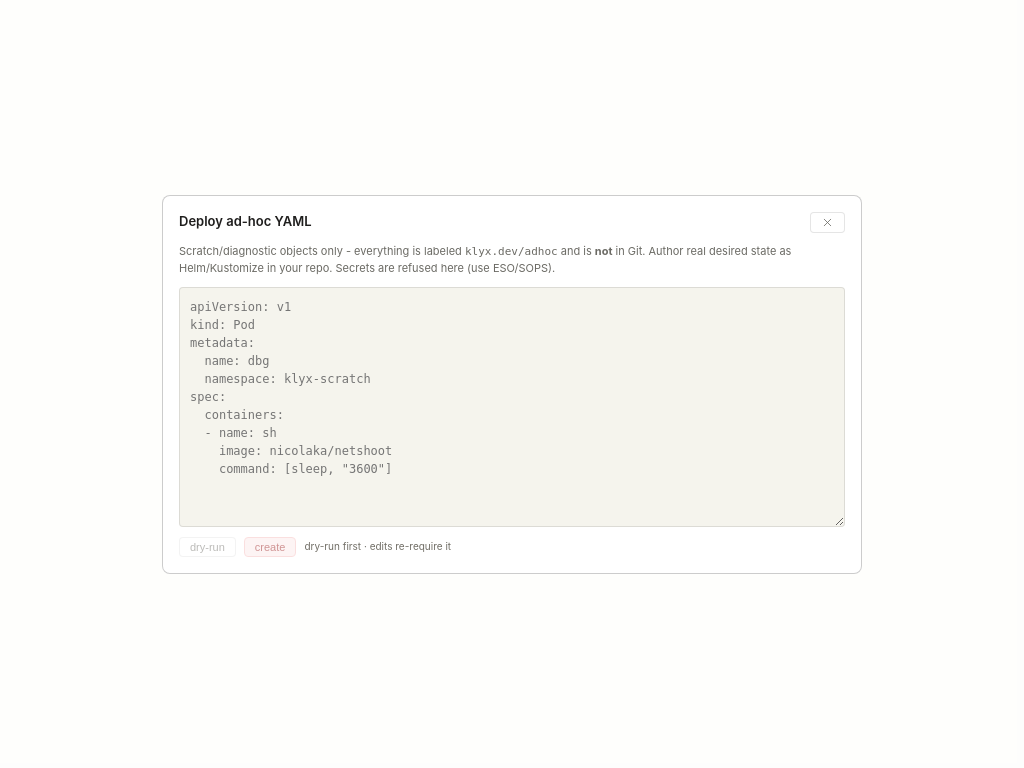
AdhocComposer › a failing doc keeps create locked and shows the per-doc error
Replace the text in the text box with placeholder "apiVersion" with "docs" at (512, 406), box [179, 286, 845, 526]
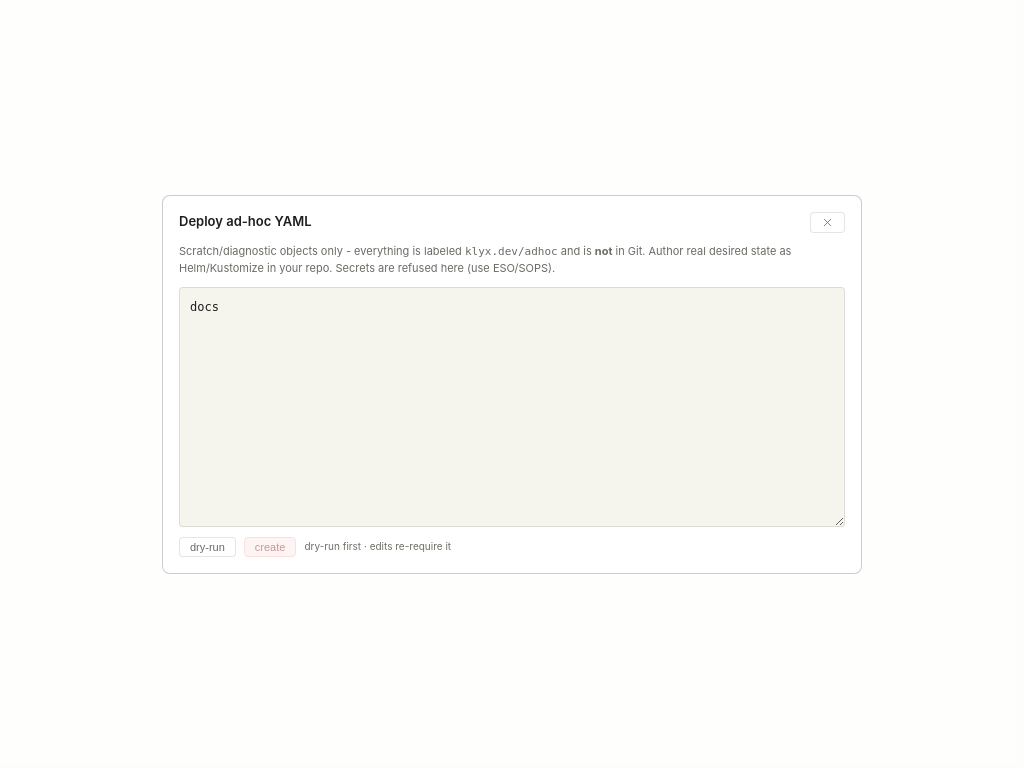
Click the button "dry-run".
click(207, 546)  # box [179, 536, 236, 556]
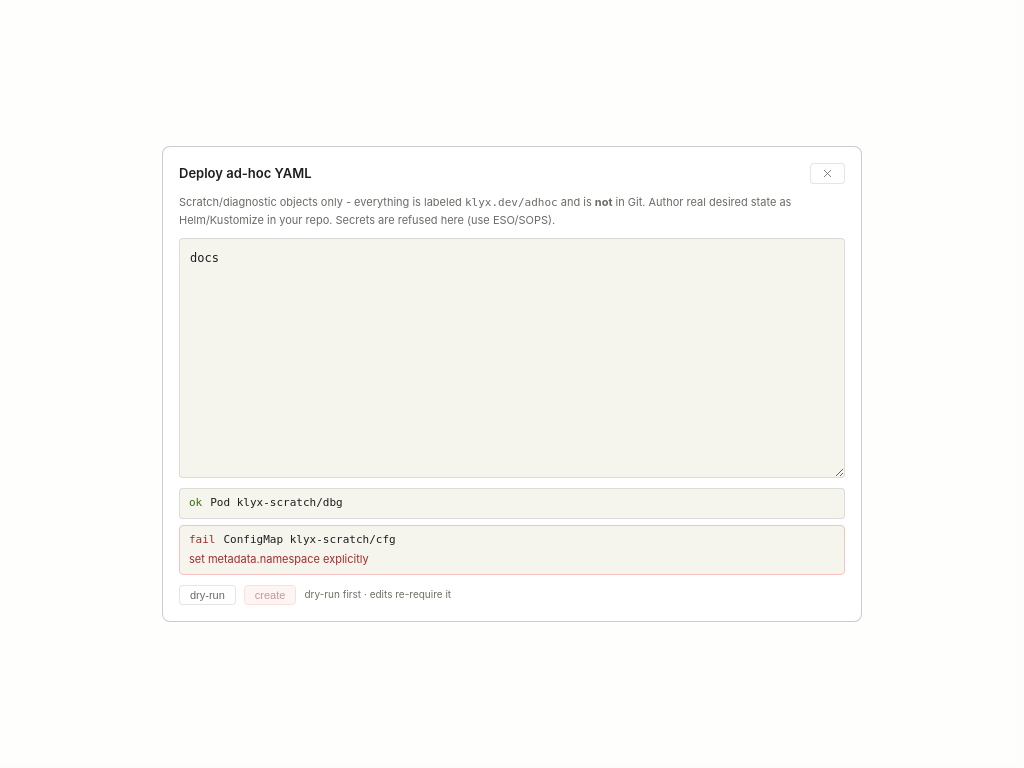
Expected: the button "create" is disabled, [244, 585, 296, 605]
Result: the text "set metadata.namespace explicitly" is shown at [189, 552, 369, 566]
